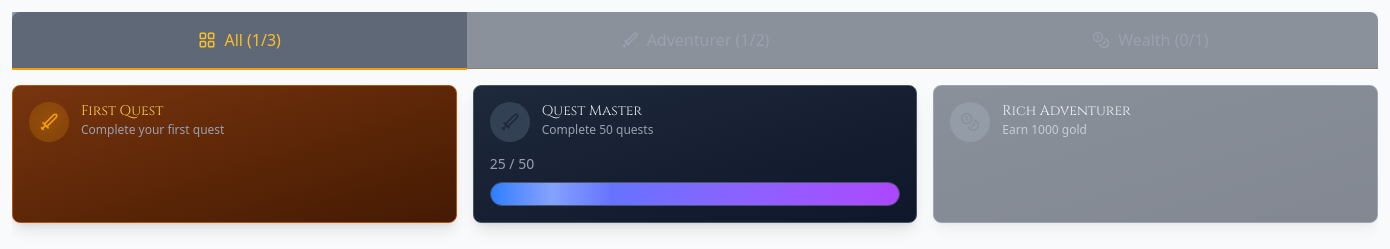
Test: AchievementGrid › filters achievements when a category tab is clicked
// Click the Wealth tab
Click the tab with test id "achievement-tab-cat-2": (1150, 41) [923,12,1378,70]
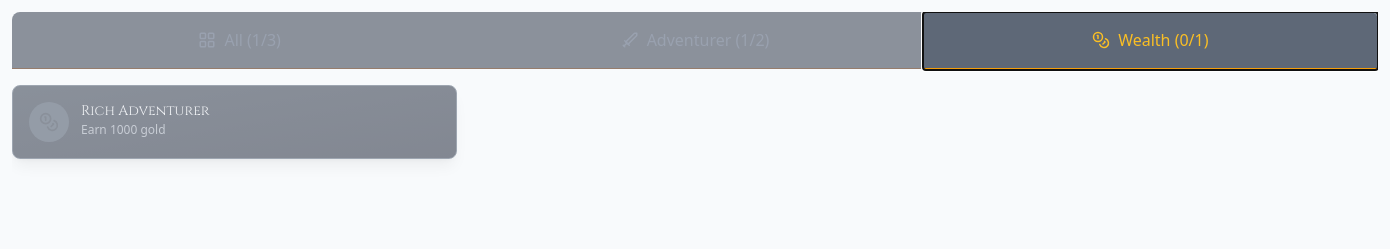
Check: the heading "Rich Adventurer" is shown, box [81,101,210,120]
Check: the heading "First Quest" is gone
Check: the heading "Quest Master" is gone
